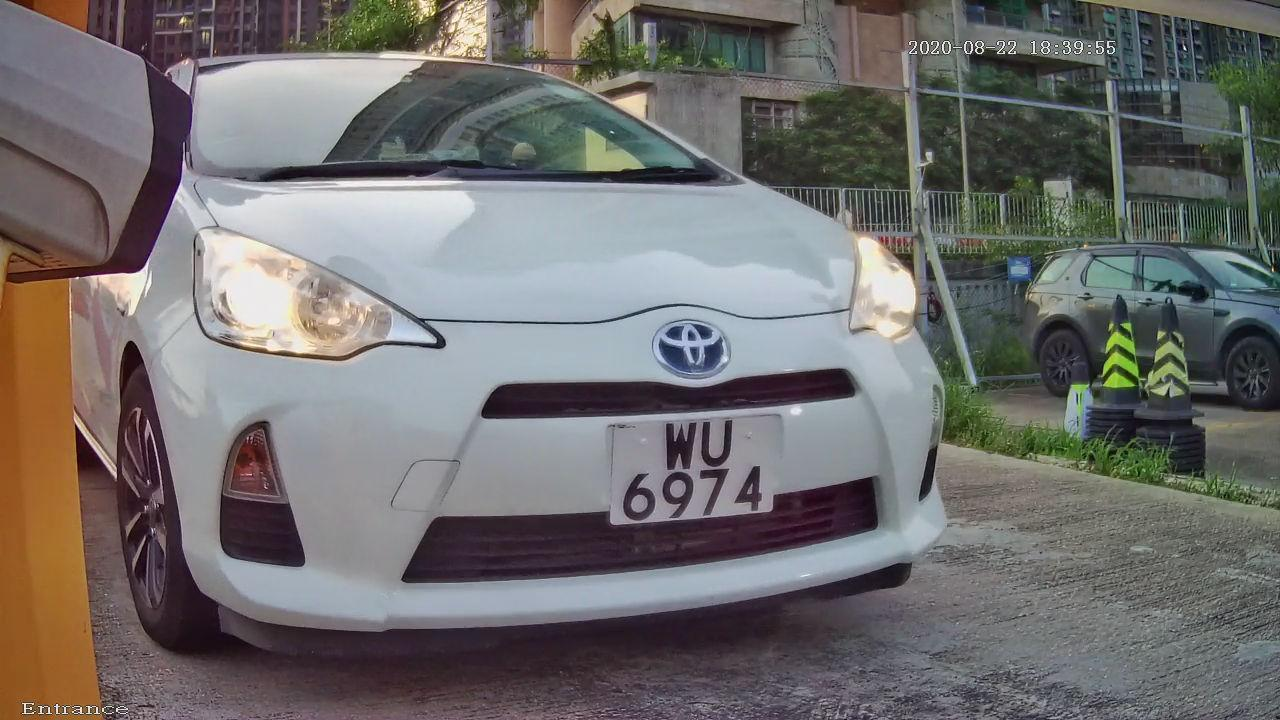Car: (1, 1, 1058, 711)
License Plate: (583, 402, 795, 541)
